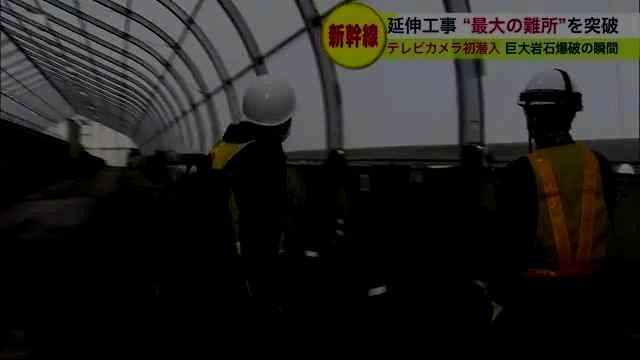helmet: (516, 64, 584, 141), (241, 73, 297, 144)
